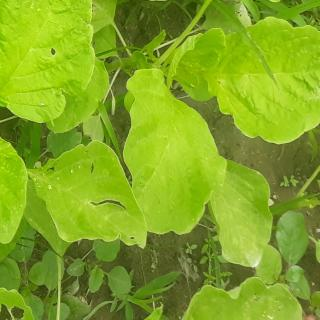karat_putih: (185, 271, 307, 320)
virus_keriting: (0, 0, 100, 128)
